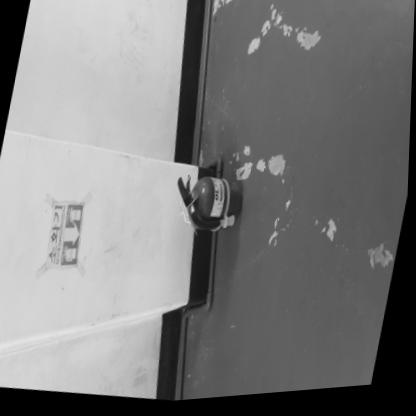FE: (169, 172, 249, 243)
